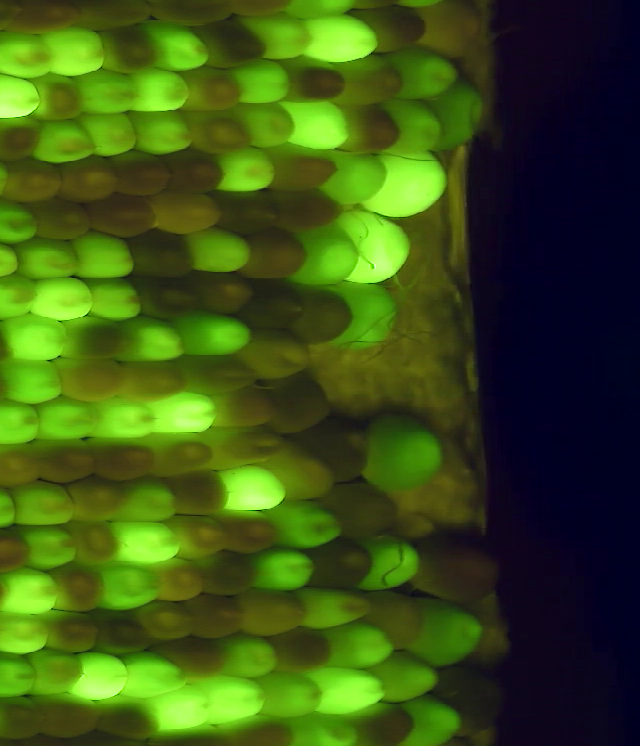fluorescent: (364, 417, 446, 495), (336, 207, 413, 286), (407, 598, 485, 668), (374, 150, 449, 219), (331, 284, 402, 350), (308, 664, 387, 718), (367, 647, 442, 703), (325, 149, 391, 208), (298, 224, 360, 285), (264, 502, 344, 549), (139, 19, 211, 71), (306, 12, 378, 63), (391, 46, 460, 99), (278, 99, 349, 150), (355, 536, 422, 590), (173, 312, 253, 357), (385, 95, 446, 153), (293, 585, 375, 628), (244, 12, 317, 59), (34, 394, 105, 442), (260, 669, 323, 723), (198, 676, 270, 723), (90, 564, 166, 608), (321, 623, 395, 668), (396, 699, 466, 746), (110, 520, 181, 565), (15, 235, 82, 282), (129, 105, 193, 154), (121, 319, 187, 366), (228, 61, 295, 107), (79, 231, 139, 282), (120, 651, 188, 696), (32, 119, 97, 166), (72, 651, 129, 704), (0, 359, 67, 404), (219, 466, 286, 511), (0, 318, 70, 361), (183, 228, 251, 272), (153, 393, 219, 438), (50, 26, 107, 78), (440, 84, 486, 148), (14, 482, 79, 527), (246, 549, 321, 588), (0, 28, 54, 82), (236, 101, 296, 149), (128, 68, 192, 113), (27, 646, 83, 697), (80, 110, 139, 158), (212, 152, 281, 193), (0, 569, 65, 612), (33, 276, 95, 321), (120, 479, 181, 524), (74, 72, 139, 114), (95, 398, 158, 440), (151, 688, 217, 728), (89, 277, 146, 323), (20, 524, 79, 568), (281, 713, 359, 746), (220, 637, 279, 679), (0, 612, 49, 656), (0, 397, 42, 445), (0, 69, 41, 118), (0, 197, 41, 244), (0, 652, 38, 698), (0, 275, 40, 317), (288, 1, 359, 21), (391, 1, 441, 11)
nonfluorescent: (434, 668, 508, 739), (301, 417, 371, 486), (264, 437, 335, 502), (412, 542, 495, 597), (323, 483, 401, 537), (289, 288, 355, 344), (83, 192, 158, 240), (271, 375, 331, 435), (268, 144, 341, 193), (196, 19, 268, 68), (334, 55, 400, 108), (305, 541, 374, 591), (242, 230, 309, 281), (127, 226, 195, 276), (358, 6, 429, 53), (241, 278, 305, 330), (345, 100, 402, 158), (424, 1, 480, 60), (364, 593, 422, 648), (282, 55, 347, 104), (54, 356, 124, 401), (273, 186, 346, 229), (214, 190, 283, 235), (184, 109, 256, 152), (239, 589, 304, 636), (148, 189, 220, 231), (241, 335, 312, 377), (167, 470, 231, 516), (134, 277, 204, 319), (180, 355, 261, 391), (61, 156, 123, 203), (185, 270, 254, 312), (183, 593, 246, 639), (208, 388, 280, 428), (153, 639, 226, 678), (118, 356, 184, 399), (270, 629, 332, 674), (26, 198, 92, 240), (1, 158, 65, 201), (162, 150, 224, 194), (215, 508, 277, 552), (2, 1, 84, 34), (66, 317, 130, 359), (68, 480, 132, 522), (99, 26, 156, 73), (135, 597, 198, 639), (168, 514, 228, 558), (182, 69, 242, 112), (92, 613, 156, 653), (213, 431, 286, 466), (114, 151, 172, 195), (39, 695, 100, 735), (354, 706, 415, 746), (42, 610, 100, 652), (63, 521, 118, 565), (51, 566, 102, 613), (100, 702, 163, 740), (153, 438, 216, 475), (37, 446, 98, 484), (199, 552, 255, 593), (34, 75, 85, 120), (94, 442, 156, 478), (156, 558, 206, 602), (78, 1, 151, 31), (0, 115, 43, 163), (150, 1, 235, 25), (0, 439, 42, 487), (0, 699, 46, 739), (475, 623, 514, 670), (231, 718, 294, 746), (0, 527, 33, 572), (230, 1, 291, 19), (164, 731, 234, 746), (349, 1, 395, 15)
